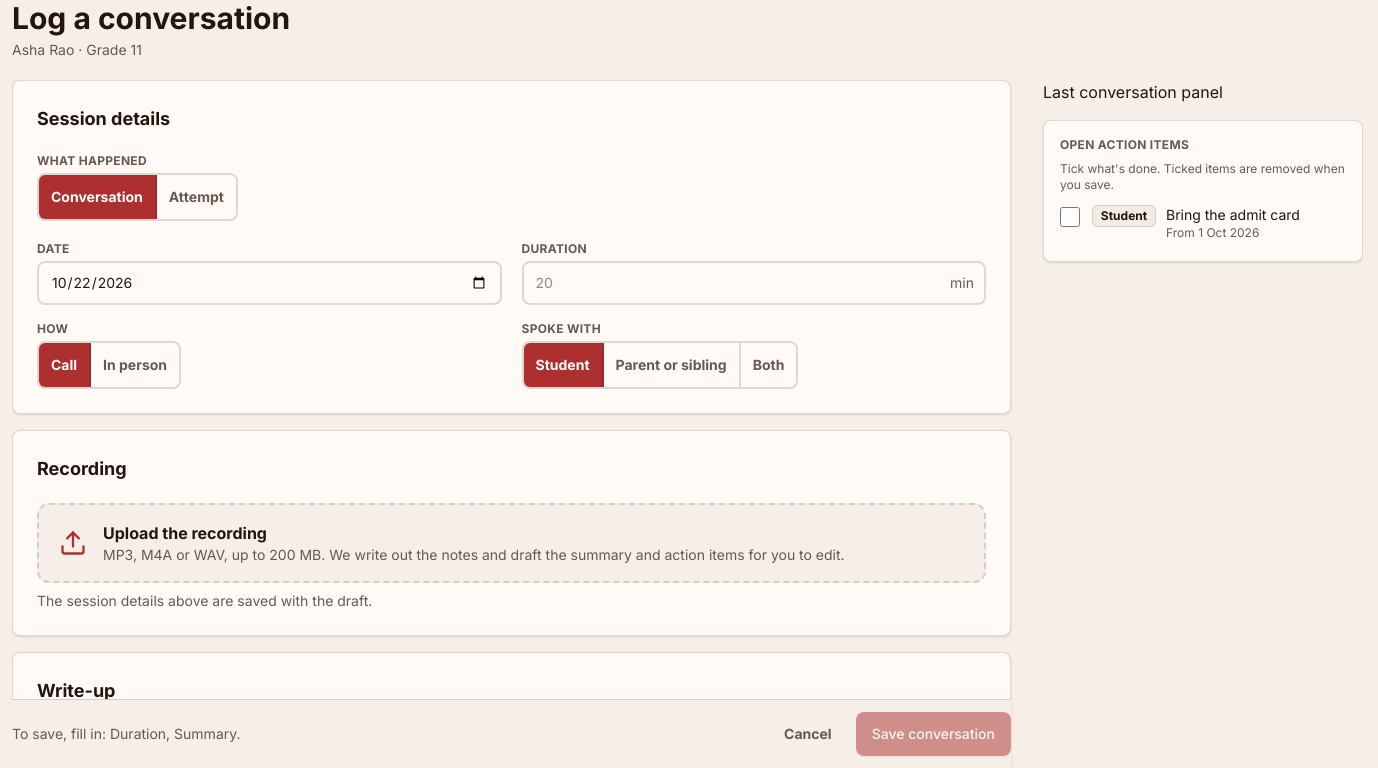
Test: LogEntryForm: Conversation › shows the server's message, and a connection error, and keeps the form
Type "30" into the number field named "Duration (minutes)" at {"x": 754, "y": 283}, box [522,261,986,305]
(page scrolled)
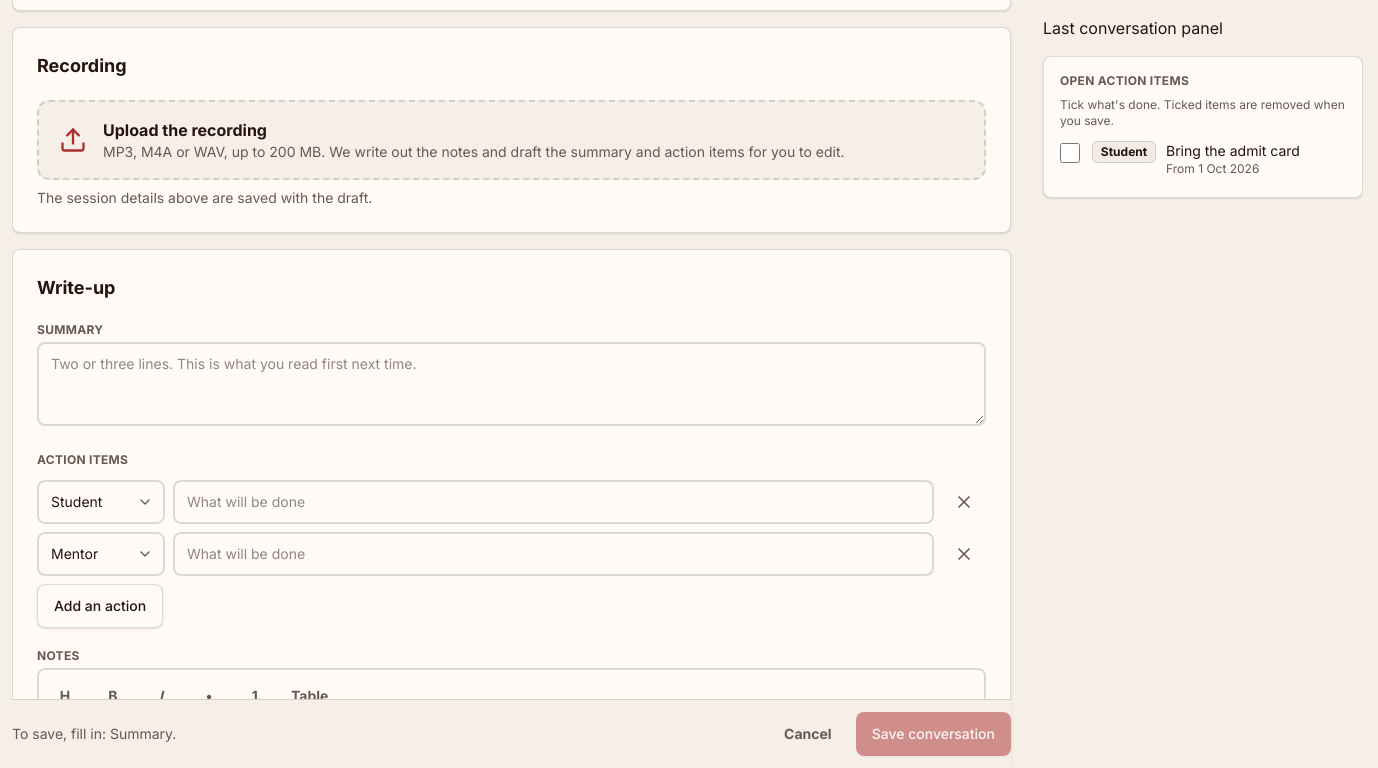
Type "Talked about the mock test." into the text box labelled "Summary" at {"x": 512, "y": 384}, box [37,342,986,426]
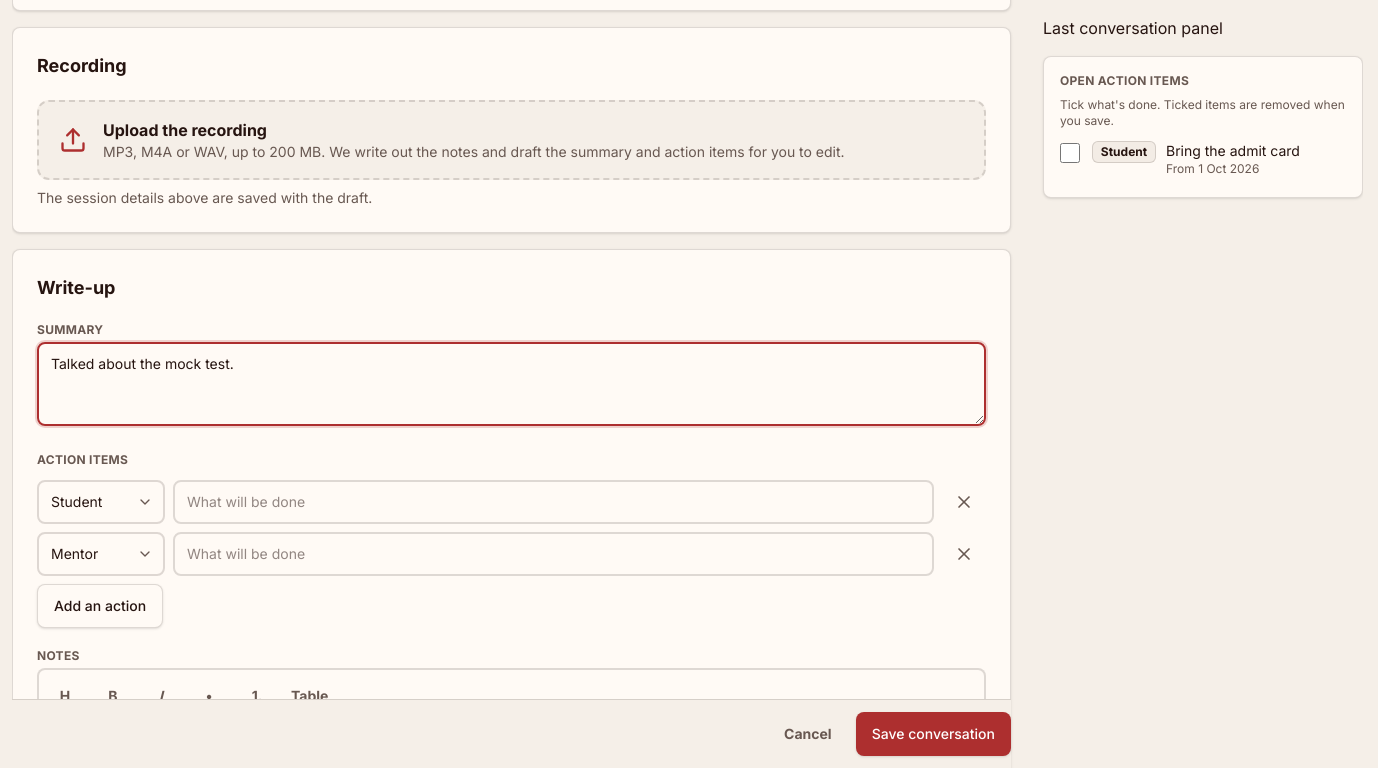
Click the button "Save conversation" at {"x": 933, "y": 734}, box [856,712,1011,756]
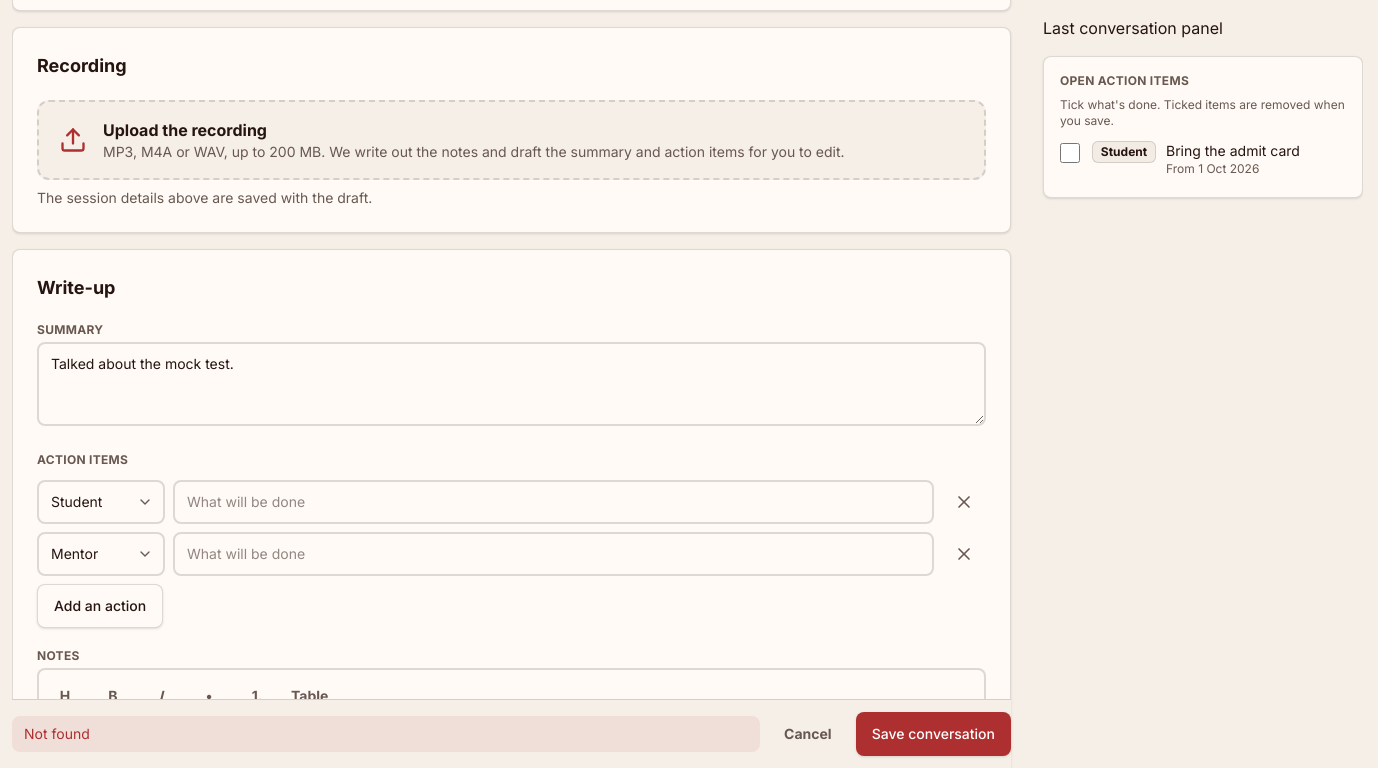
Now the message reads "Not found", box [24,725,90,742]
Click the button "Save conversation" at {"x": 933, "y": 734}, box [856,712,1011,756]
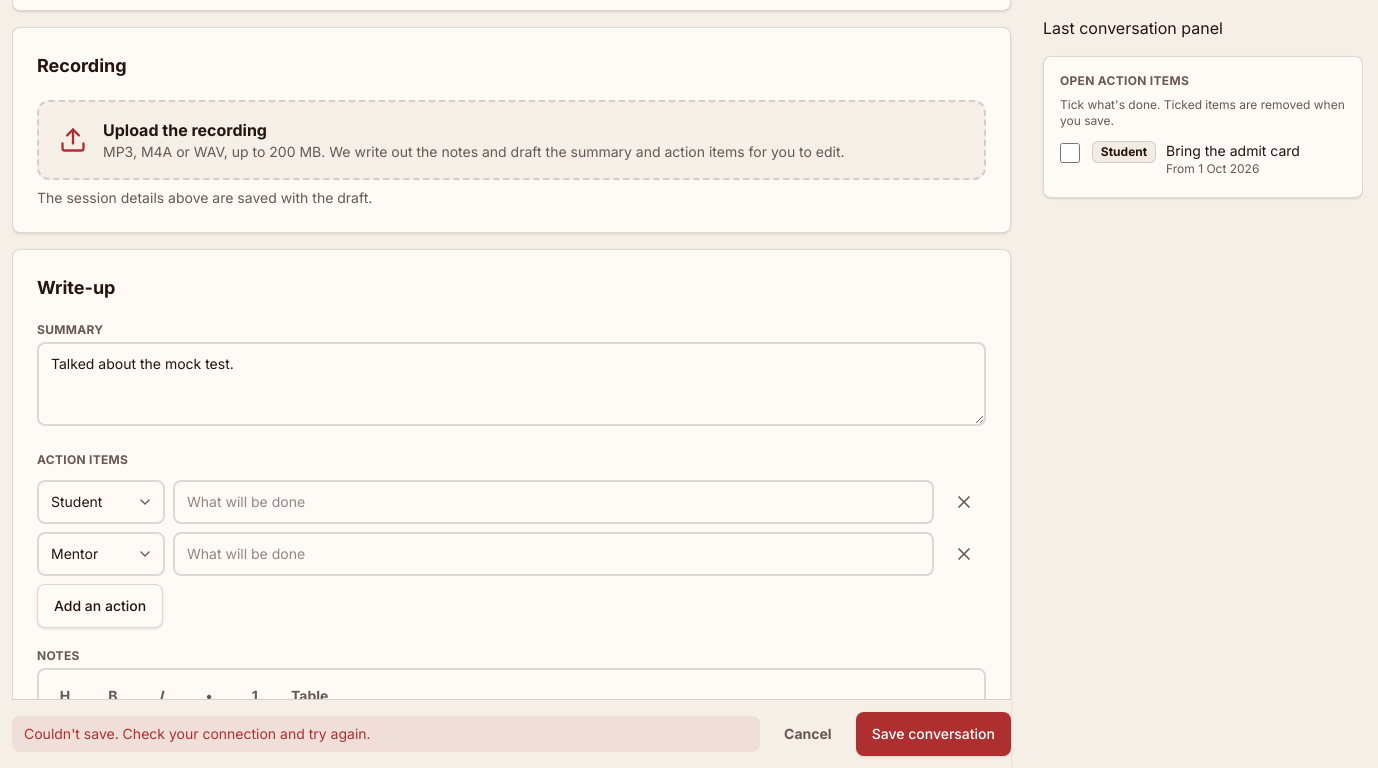
Now the button "Save conversation" is enabled, box [856,712,1011,756]
Now the message reads "Couldn't save. Check your connection and try again.", box [24,725,371,742]
